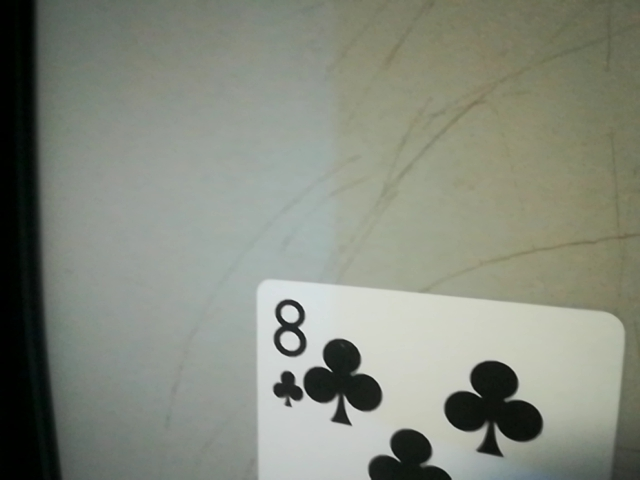mh 8: (254, 289, 315, 413)
